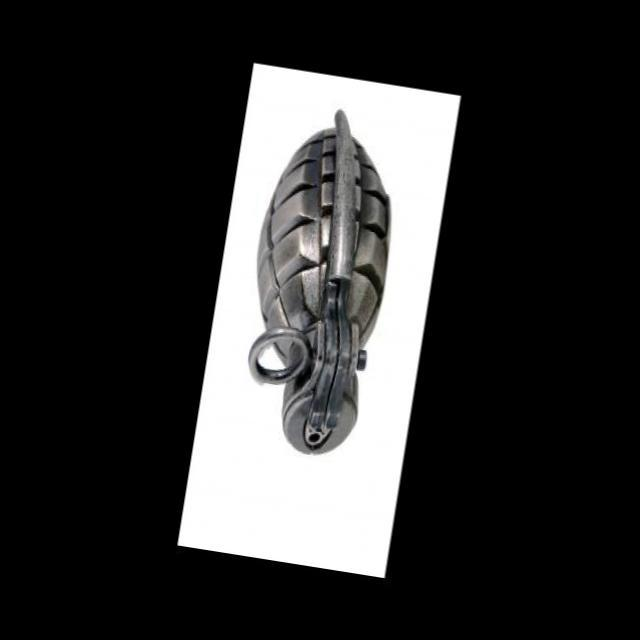grenade: (220, 114, 414, 480)
